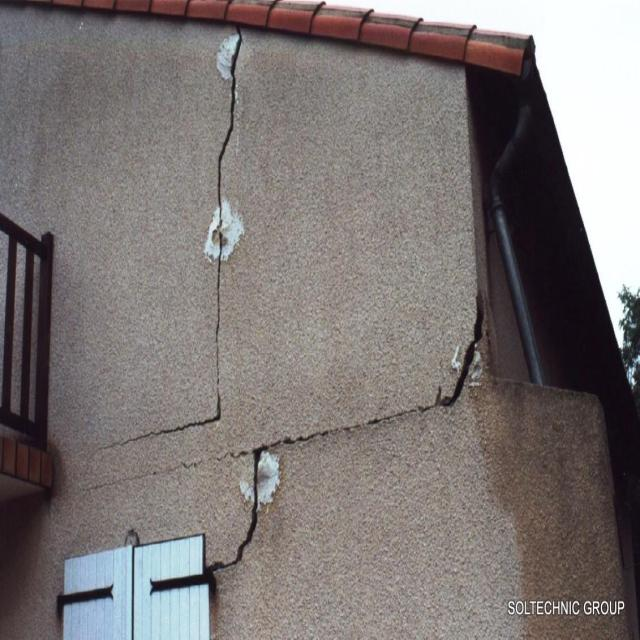crack: (89, 25, 244, 461), (417, 289, 484, 411), (207, 445, 265, 573)
